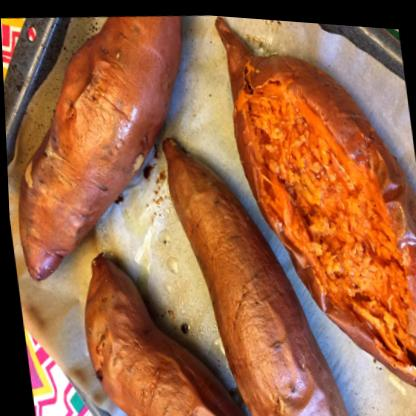sweetpotato: (207, 12, 416, 416), (0, 0, 238, 292), (155, 126, 354, 416)
